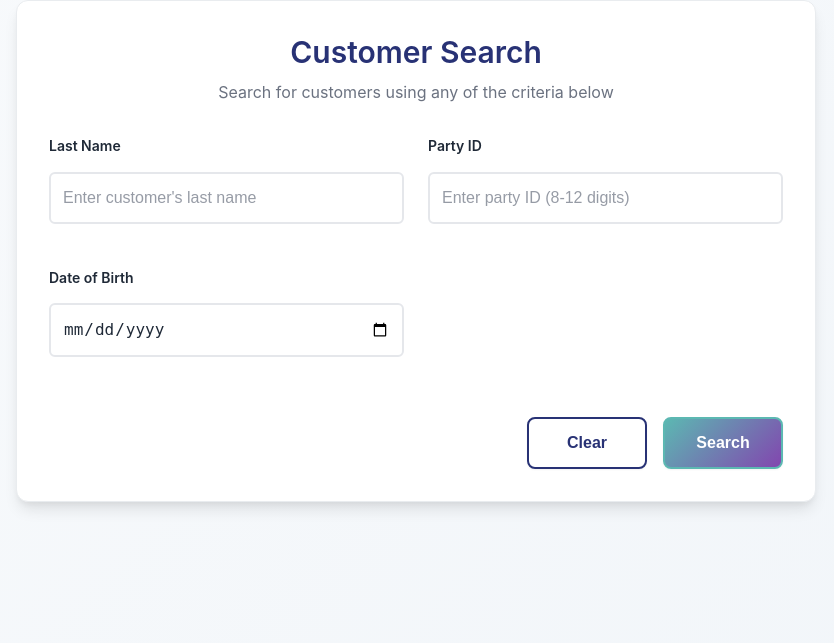
it: CustomerSearch Component › handles search errors gracefully
The image size is (834, 643).
Type "Doe" into the field labelled "Last Name" at (226, 198), box top-left (49, 172), bottom-right (404, 224)
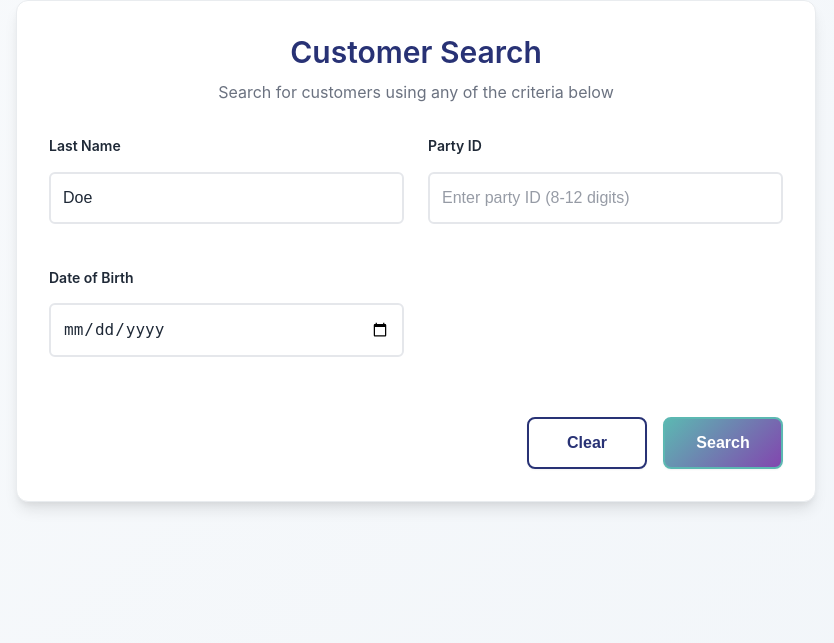
Click the button "Search" at (723, 443), box top-left (663, 417), bottom-right (783, 469)
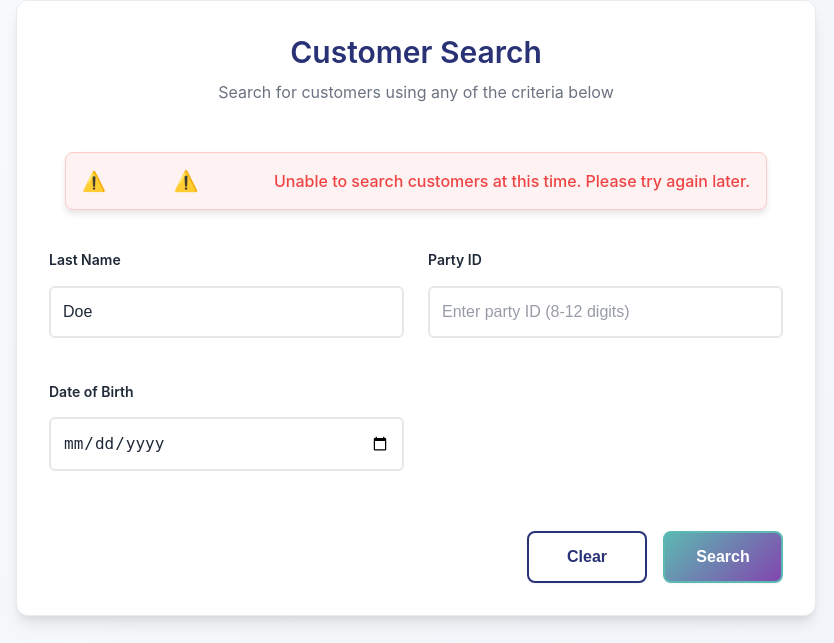
Expected: the text "Unable to search customers at this time" is shown, top-left (274, 171), bottom-right (750, 191)
